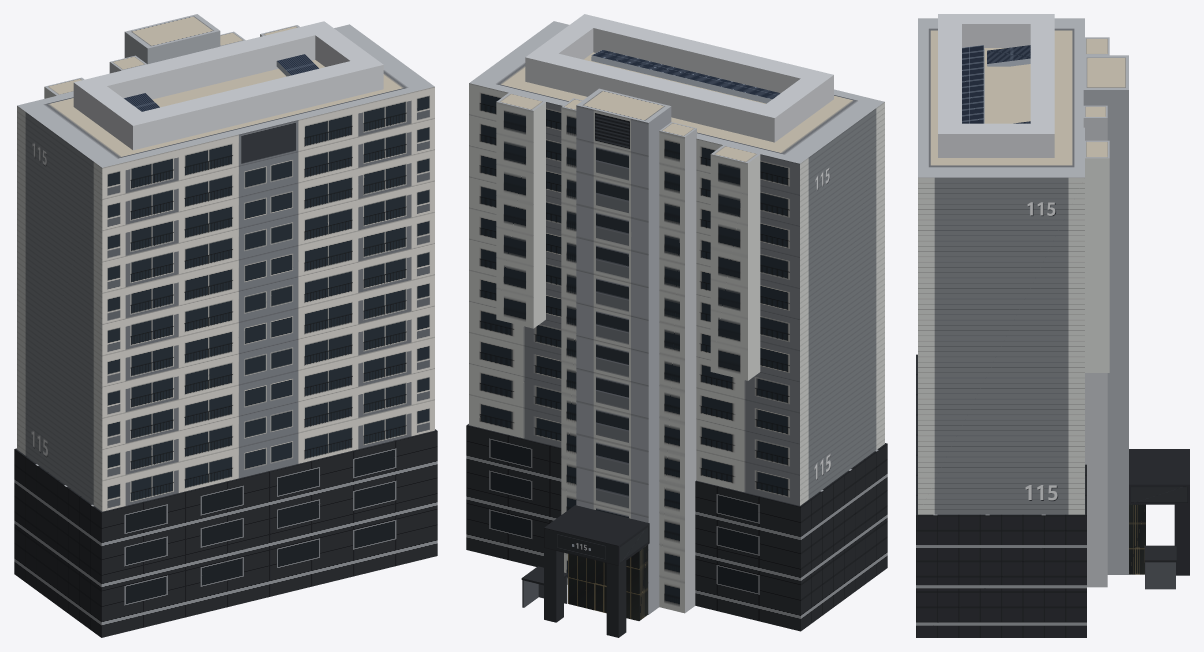
Rendered from 3D_place_115.glb.
3 renders of one model, left to right at view 1: azimuth 30°, elevation 25°; view 2: azimuth 150°, elevation 25°; view 3: azimuth 270°, elevation 25°, orthographic. The views are drawn at different scales.
Visible parts, largest first — view 1: KumhoParkHills_115; view 2: KumhoParkHills_115, Dong115_PhotoMatched_Entrance; view 3: KumhoParkHills_115, Dong115_PhotoMatched_Entrance.
Part boxes in pixels (x1,y1,x2,y2): KumhoParkHills_115: (14, 14, 437, 637); KumhoParkHills_115: (466, 14, 887, 631); Dong115_PhotoMatched_Entrance: (521, 505, 649, 637); KumhoParkHills_115: (916, 14, 1128, 637); Dong115_PhotoMatched_Entrance: (1129, 449, 1189, 589).
Bounding box in the file's own units: 28.7 × 40.35 × 20.65.
Materials: 32 (14 with a texture image).
